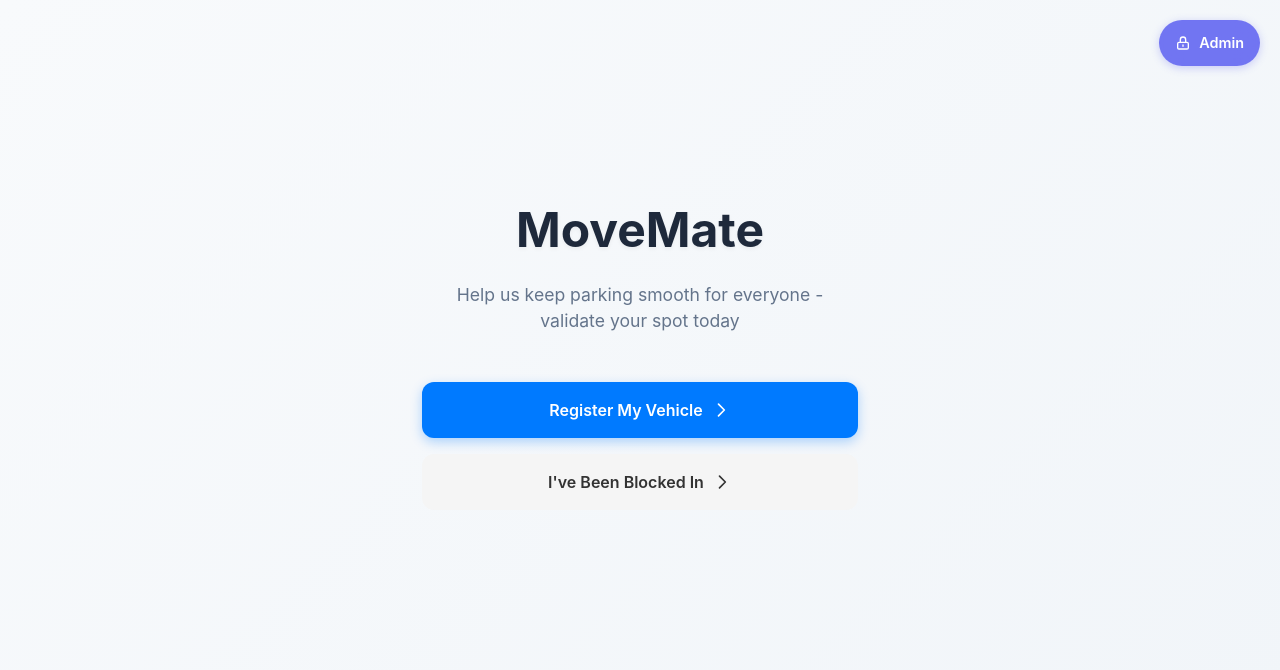
Test: MoveMate App flows › recovers from venue fetch failure and debounces DVLA vehicle lookup cleanly
Click the button "Register My Vehicle" at (640, 410), box [422,382,858,438]
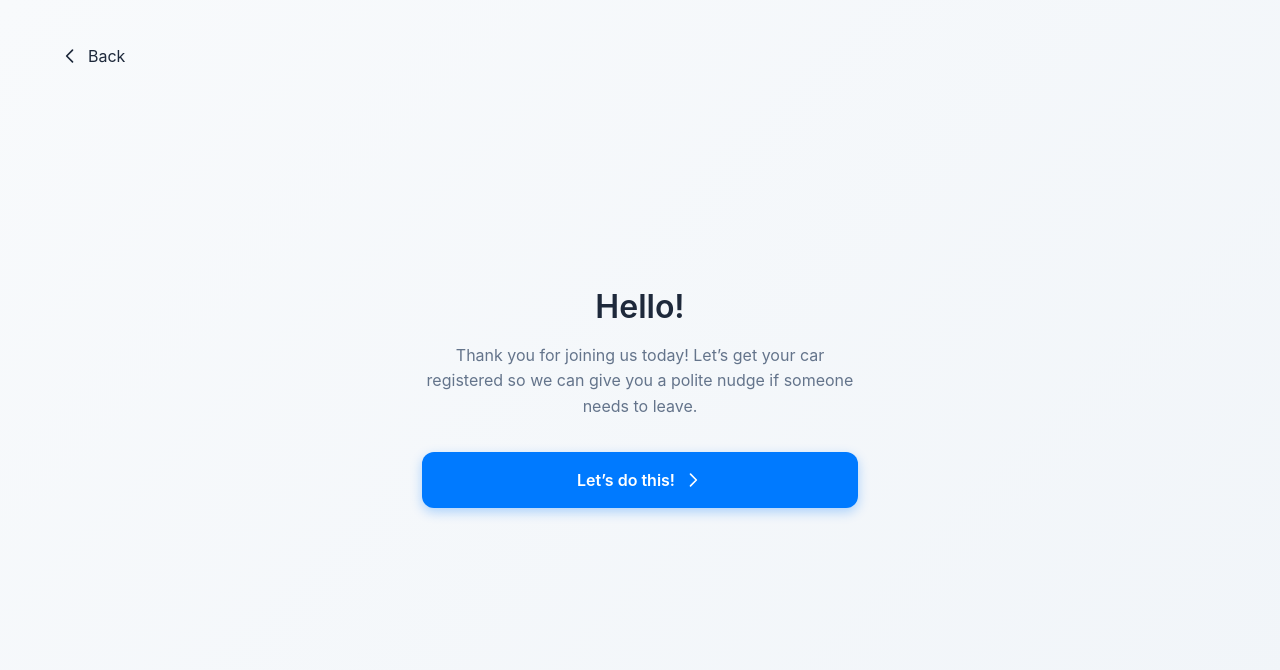
Click the button "Let’s do this!" at (640, 480), box [422,452,858,508]
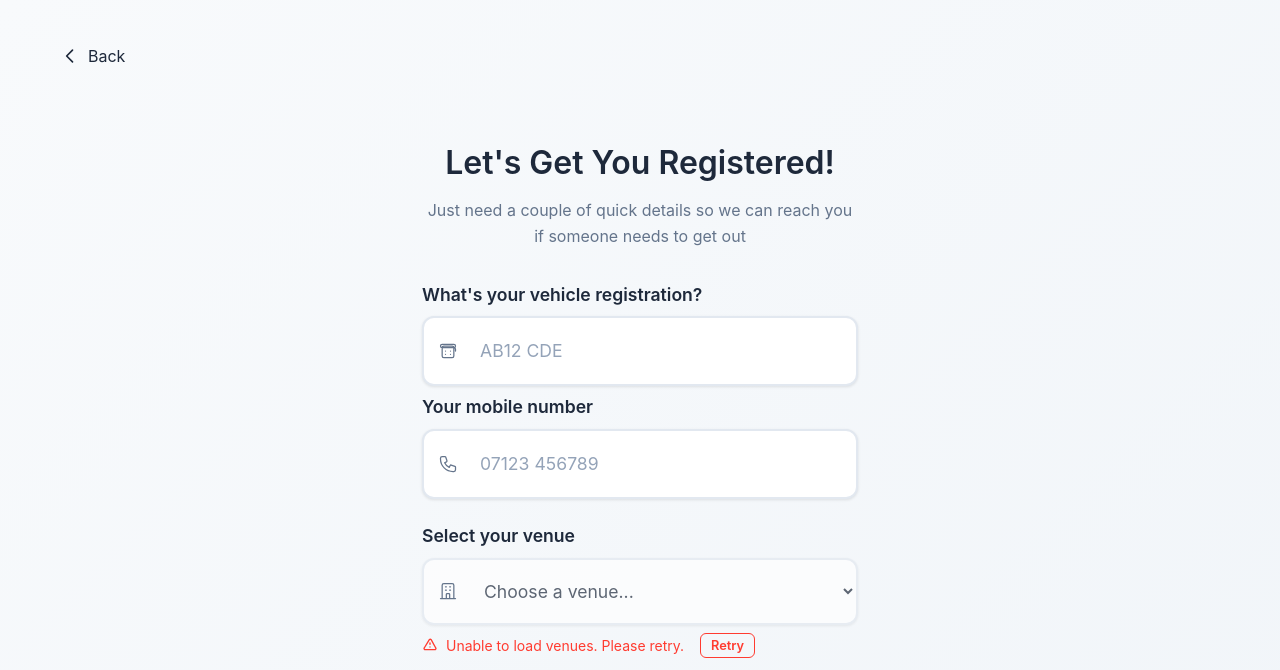
Check: the text "Unable to load venues. Please retry." is shown, box [446,635,684,656]
Click the button "Retry" at (728, 645), box [700,632,755,658]
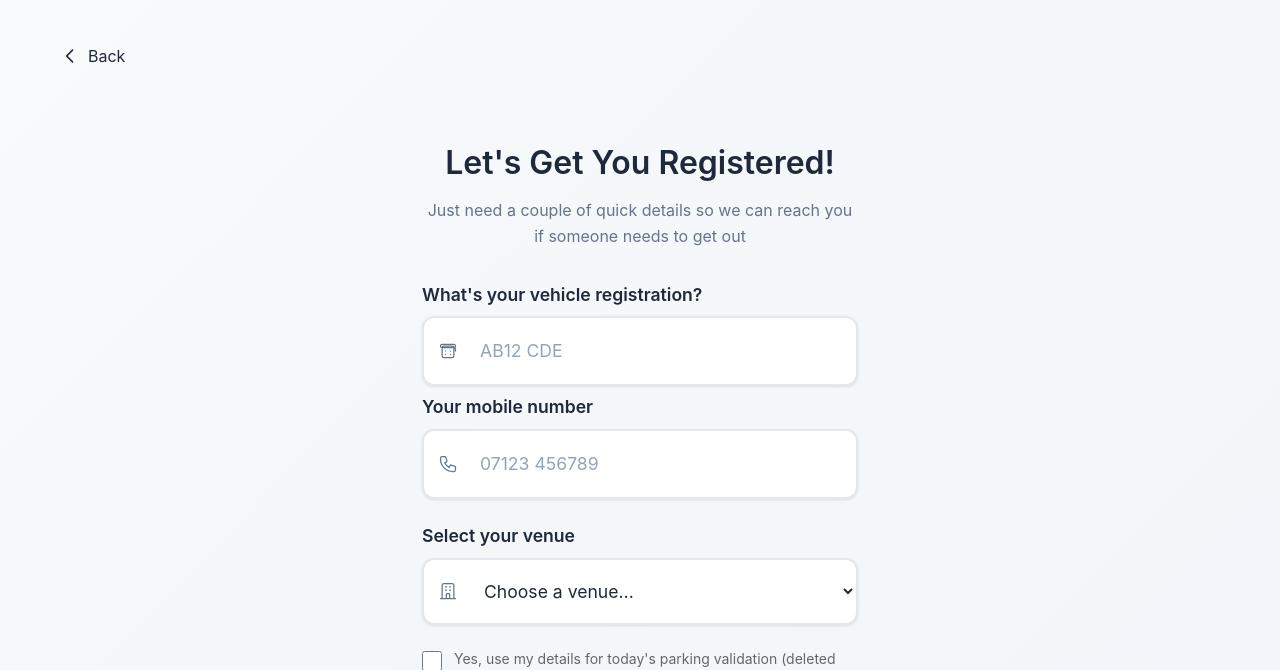
# Fewer than 4 alphanumeric chars should never trigger a lookup
Type "XY1" into the field labelled "What's your vehicle registration?" at (640, 351), box [422,316,858,386]
# Rapid typing should debounce into a single API call with normalized reg
Replace the text in the field labelled "What's your vehicle registration?" with "XY19" at (640, 351), box [422,316,858,386]
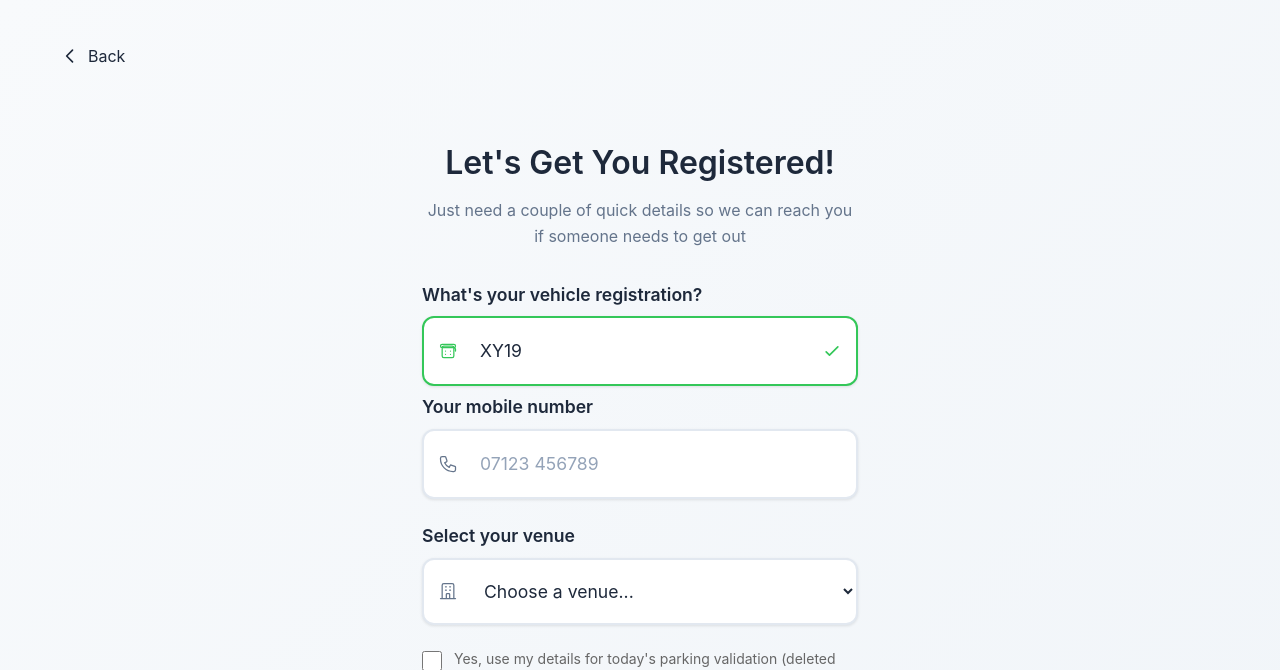
Replace the text in the field labelled "What's your vehicle registration?" with "XY19 A" at (640, 351), box [422,316,858,386]
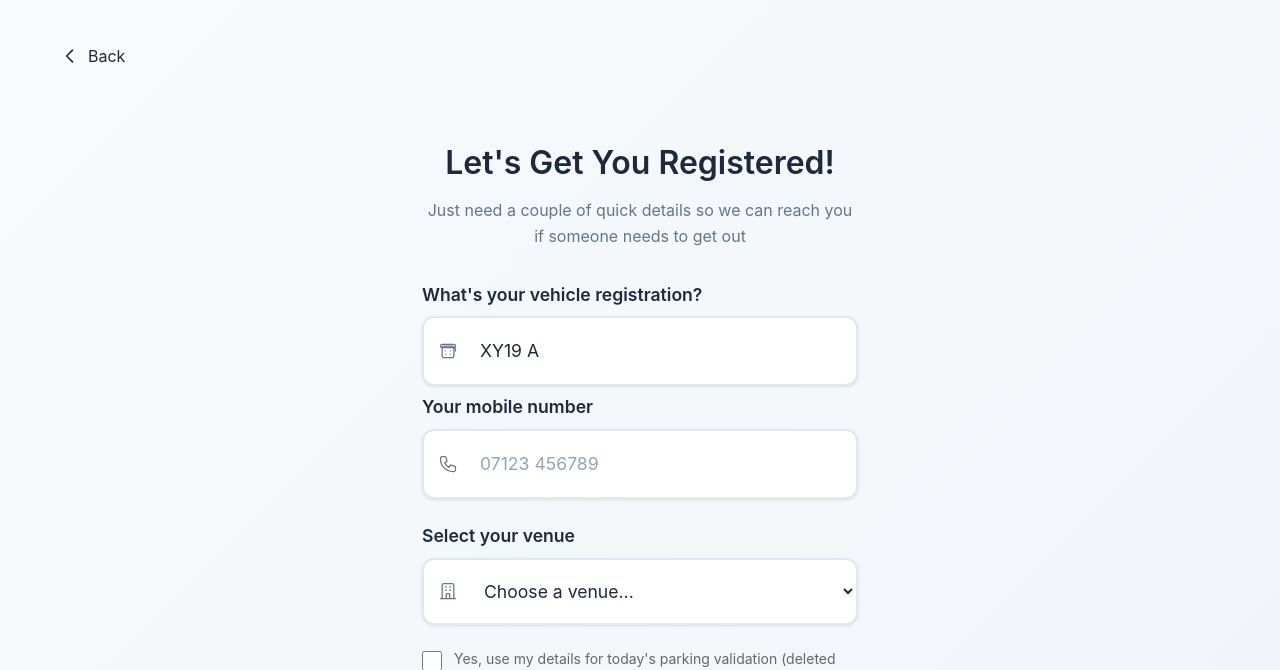
Replace the text in the field labelled "What's your vehicle registration?" with "xy19 abc" at (640, 351), box [422,316,858,386]
Wait 500 ms
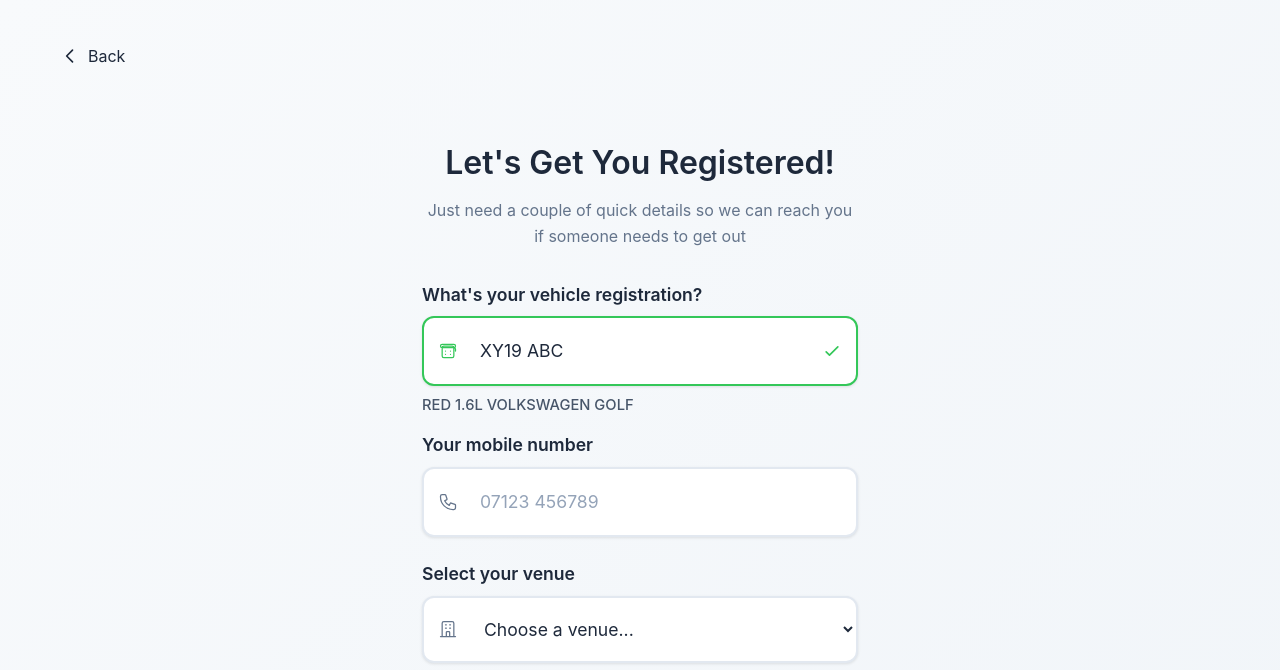
Check: the text "RED 1.6L VOLKSWAGEN GOLF" is shown, box [422,396,634,414]
